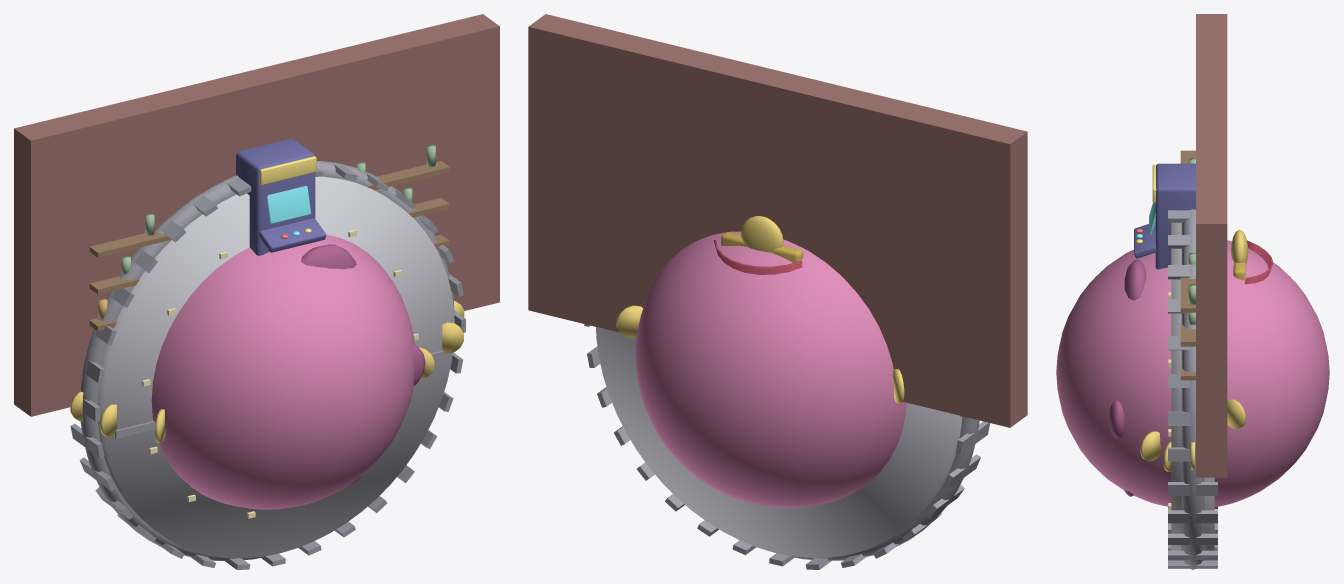
The model's file is story.glb.
3 renders of one model, left to right at view 1: azimuth 30°, elevation 25°; view 2: azimuth 150°, elevation 25°; view 3: azimuth 270°, elevation 25°, orthographic. The views are drawn at different scales.
Parts seen in each view (by area): view 1: story.door, story.arcade, story.moon, story.shelf; view 2: story.door, story.arcade, story.moon, story.emperor, story.baron; view 3: story.arcade, story.door, story.moon, story.shelf, story.emperor, story.baron.
Part boxes in pixels (x1,y1,x2,y2): story.door: [14, 14, 499, 416]; story.arcade: [70, 138, 464, 509]; story.moon: [70, 161, 465, 569]; story.shelf: [89, 144, 449, 331]; story.door: [528, 14, 1027, 427]; story.arcade: [596, 231, 951, 507]; story.moon: [584, 324, 989, 569]; story.emperor: [721, 216, 803, 262]; story.baron: [714, 240, 802, 274]; story.arcade: [1056, 163, 1329, 506]; story.door: [1196, 14, 1227, 477]; story.moon: [1168, 209, 1217, 569]; story.shelf: [1180, 150, 1195, 380]; story.emperor: [1231, 230, 1248, 280]; story.baron: [1245, 240, 1273, 284].
Size of the model in its own units: 8 by 7.68 by 4.4.
